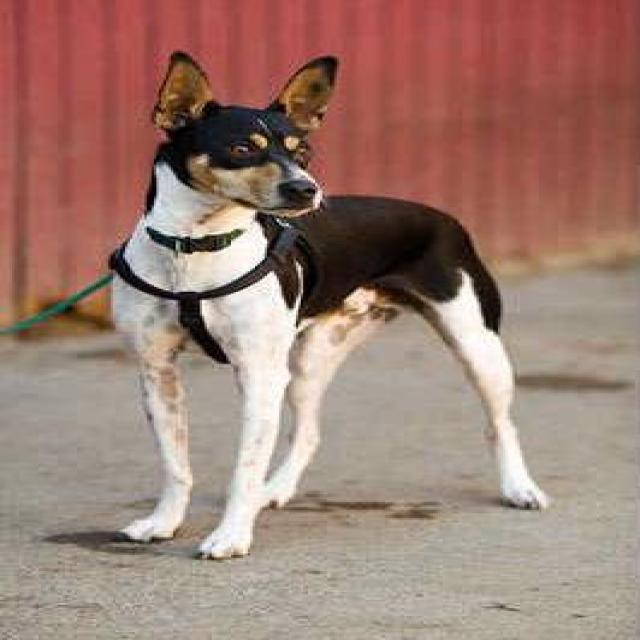relax: (97, 25, 519, 587)
